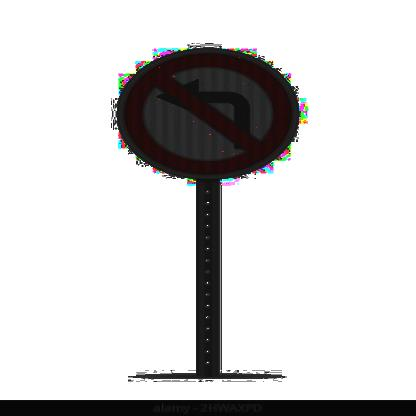No left turn: (116, 43, 314, 177)
